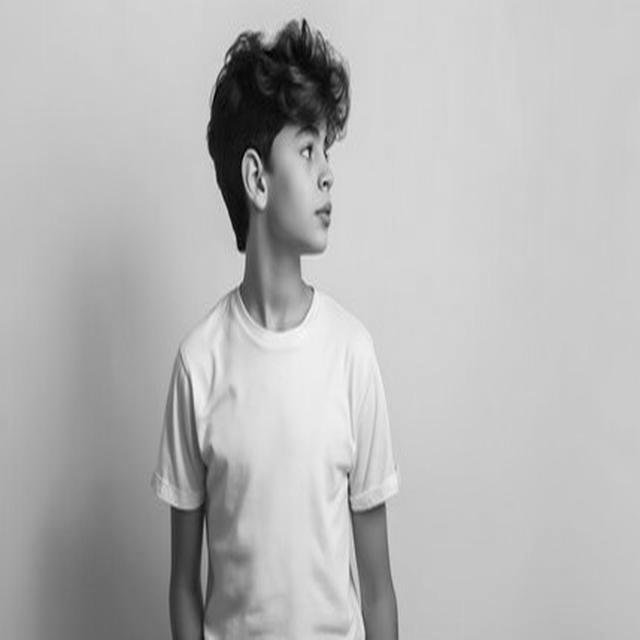Neutral: (267, 102, 335, 255)
